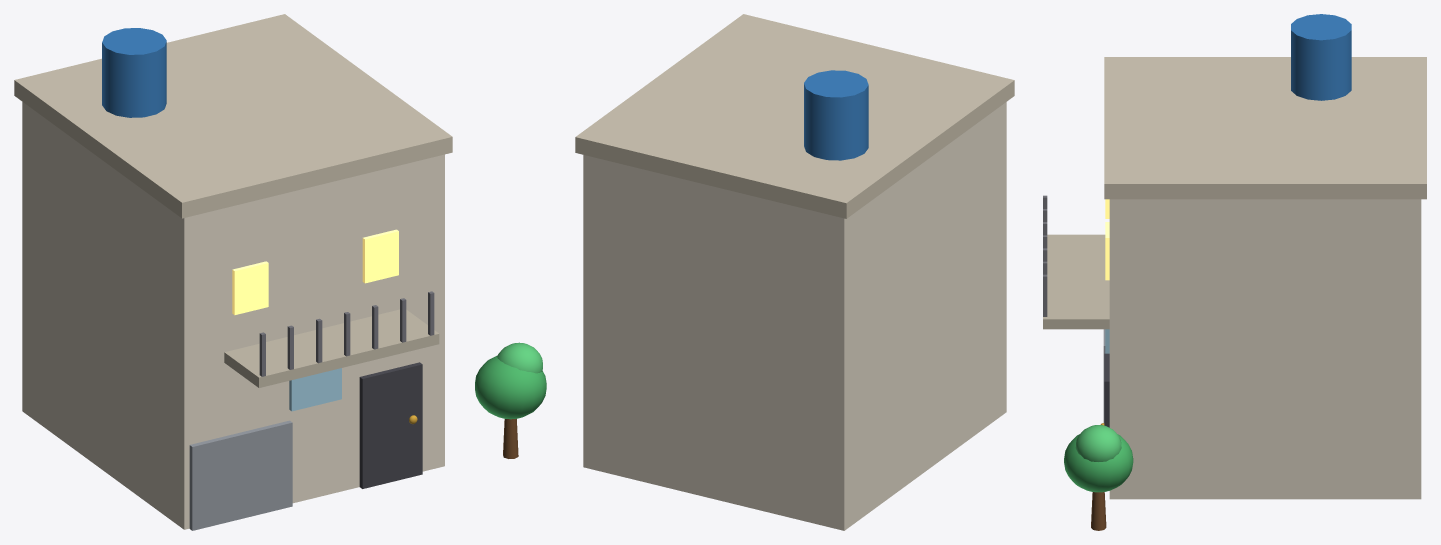
The model's file is res_town.glb.
3 views of the same model, side by side, from view 1: azimuth 30°, elevation 25°; view 2: azimuth 150°, elevation 25°; view 3: azimuth 270°, elevation 25° (orthographic). The views are drawn at different scales.
Bounding box in the file's own units: 3.56 × 3.75 × 3.45.
